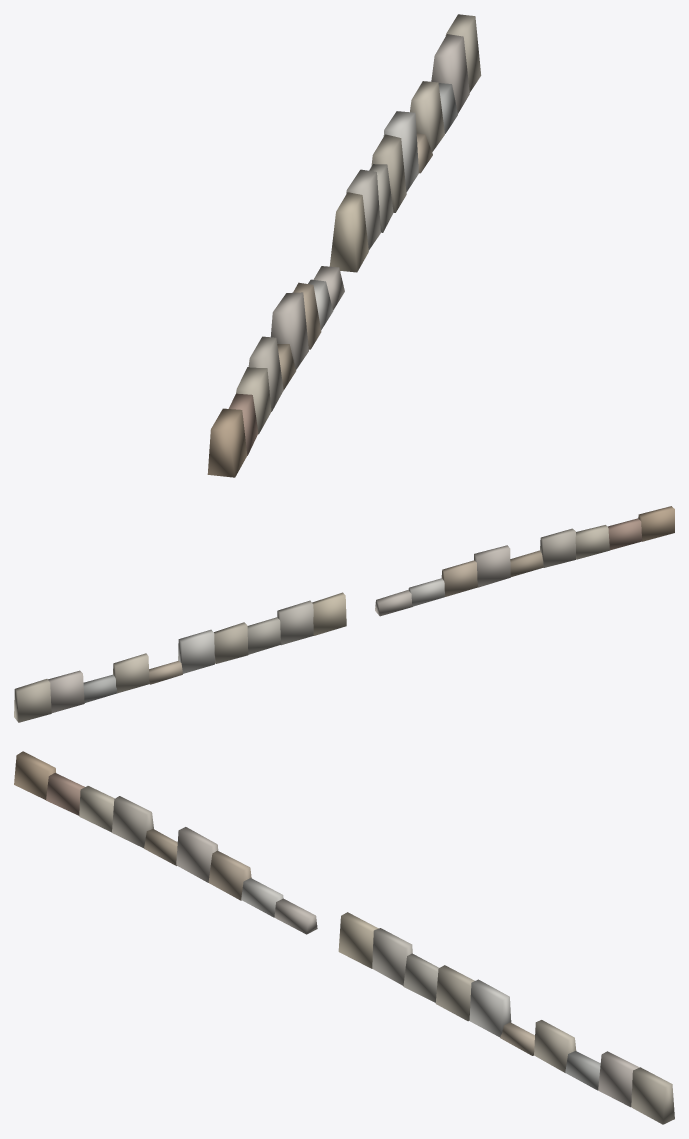
File: farm_-56_-49_far.glb
3 renders of one model, top to bottom at view 1: azimuth 30°, elevation 25°; view 2: azimuth 150°, elevation 25°; view 3: azimuth 270°, elevation 25°, orthographic. The views are drawn at different scales.
Visible parts, largest first — view 1: geometry_0; view 2: geometry_0; view 3: geometry_0.
Part boxes in pixels (left/top/right/bottom): geometry_0: left=207, top=14, right=481, bottom=477; geometry_0: left=14, top=506, right=674, bottom=722; geometry_0: left=14, top=751, right=674, bottom=1124.
Size of the model in its own units: 20.45 by 5.52 by 24.1.
